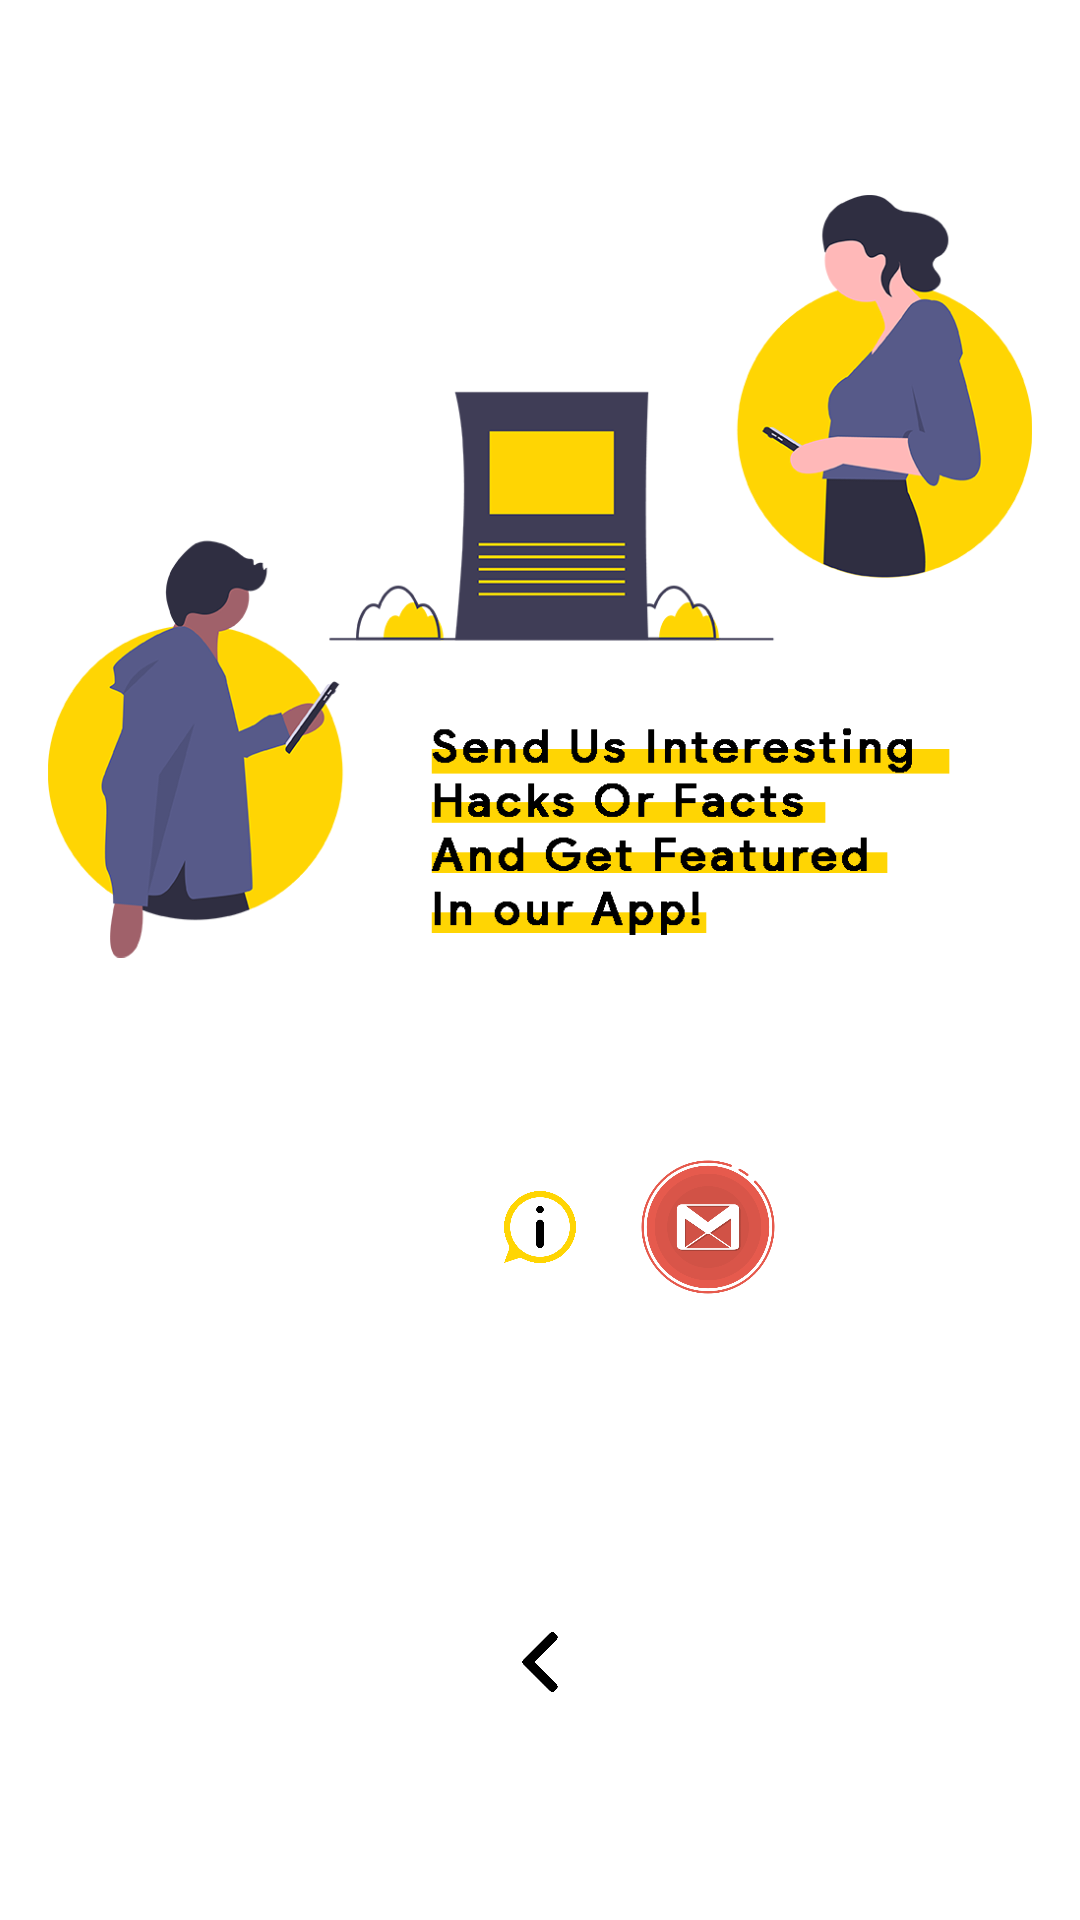

Locate icon controls on the screen. Image size 1080px x 1920px, boxes as Rect(x1, y1, x2, y2).
back: Rect(522, 1632, 558, 1692)
info: Rect(504, 1191, 576, 1263)
